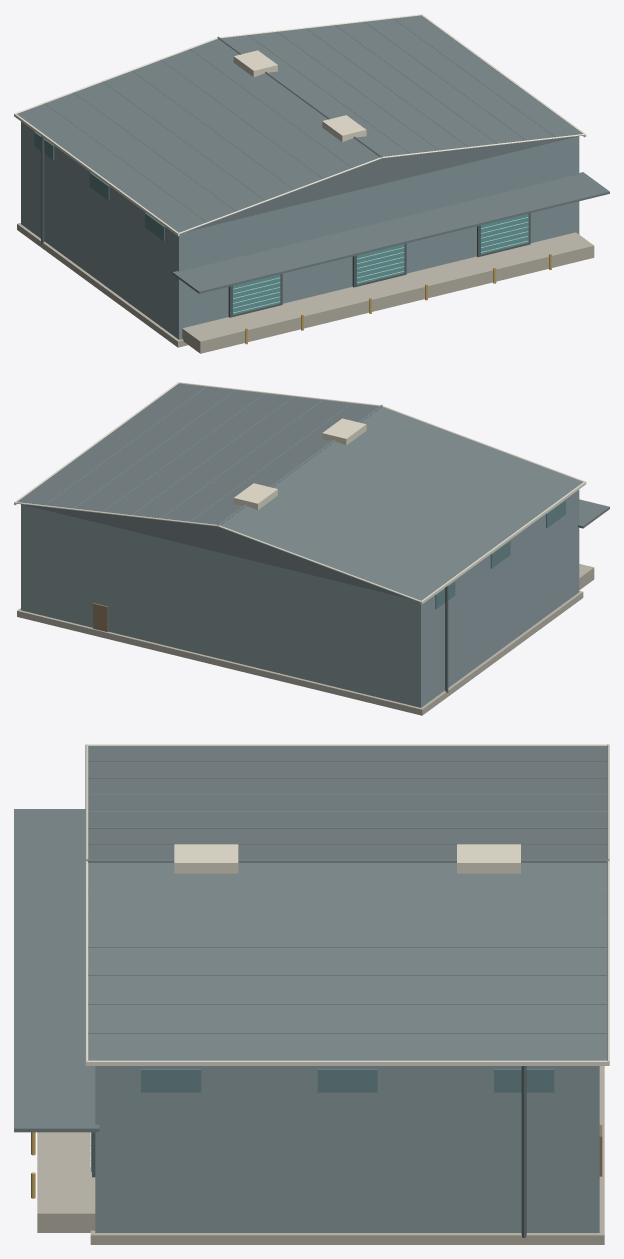
3 renders of one model, top to bottom at view 1: azimuth 30°, elevation 25°; view 2: azimuth 150°, elevation 25°; view 3: azimuth 270°, elevation 25°, orthographic. The views are drawn at different scales.
Size of the model in its own units: 39 by 13.28 by 30.73.
